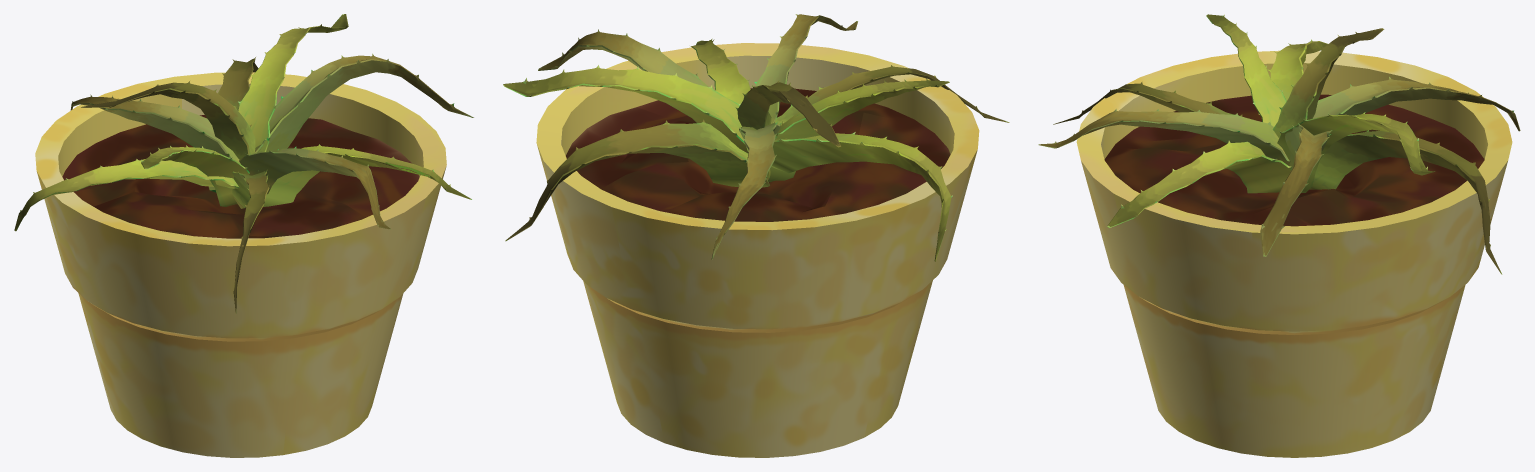
Rendered from aloevera_dead_end.glb.
The picture shows the model from 3 angles, left to right: view 1: azimuth 30°, elevation 25°; view 2: azimuth 150°, elevation 25°; view 3: azimuth 270°, elevation 25°; orthographic projection. The views are drawn at different scales.
Visible parts, largest first — view 1: Pot, Plant; view 2: Pot, Plant; view 3: Pot, Plant.
Part boxes in pixels (x1,y1,x2,y2): Pot: (35, 72, 446, 457); Plant: (14, 14, 473, 313); Pot: (536, 43, 979, 457); Plant: (503, 14, 1009, 261); Pot: (1076, 50, 1512, 457); Plant: (1038, 14, 1520, 274).
Size of the model in its own units: 2.38 by 1.72 by 2.27.
4 materials, 4 textured.
